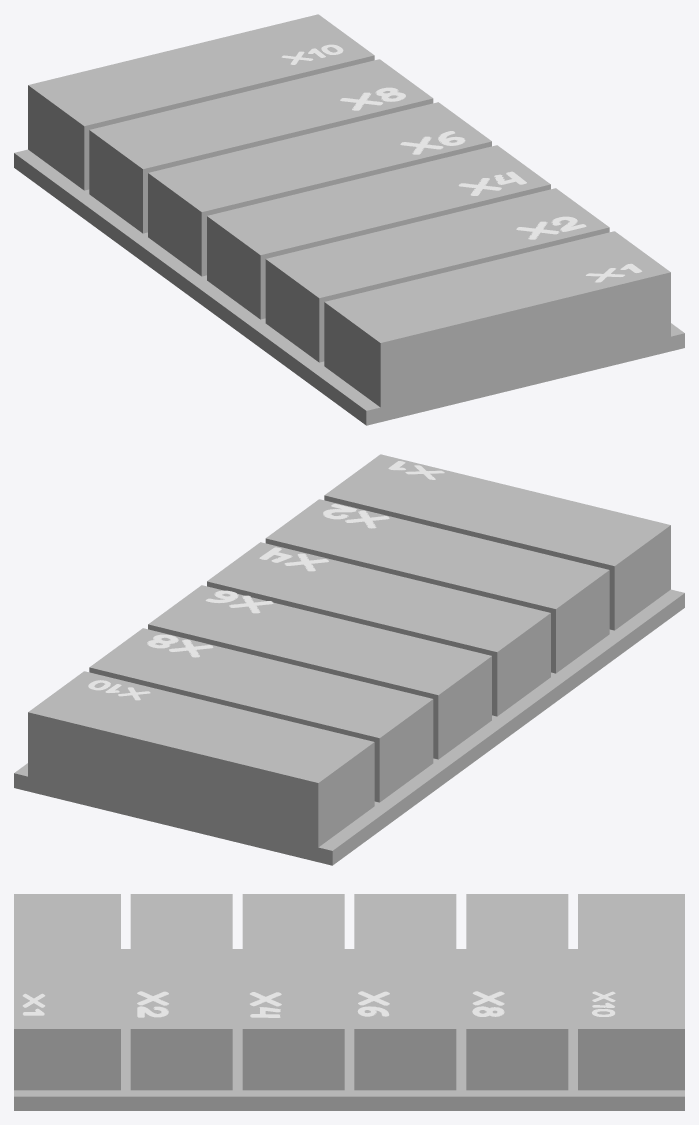
The model's file is platform.fbx.
3 renders of one model, top to bottom at view 1: azimuth 30°, elevation 25°; view 2: azimuth 150°, elevation 25°; view 3: azimuth 270°, elevation 25°, orthographic. The views are drawn at different scales.
Visible parts, largest first — view 1: Cube.002; view 2: Cube.002; view 3: Cube.002.
Boxes of the visible parts, x1=… form: Cube.002: x1=14, y1=14, x2=684, y2=425; Cube.002: x1=14, y1=454, x2=684, y2=865; Cube.002: x1=14, y1=894, x2=684, y2=1110.
Size of the model in its own units: 2607 by 641 by 4998.
